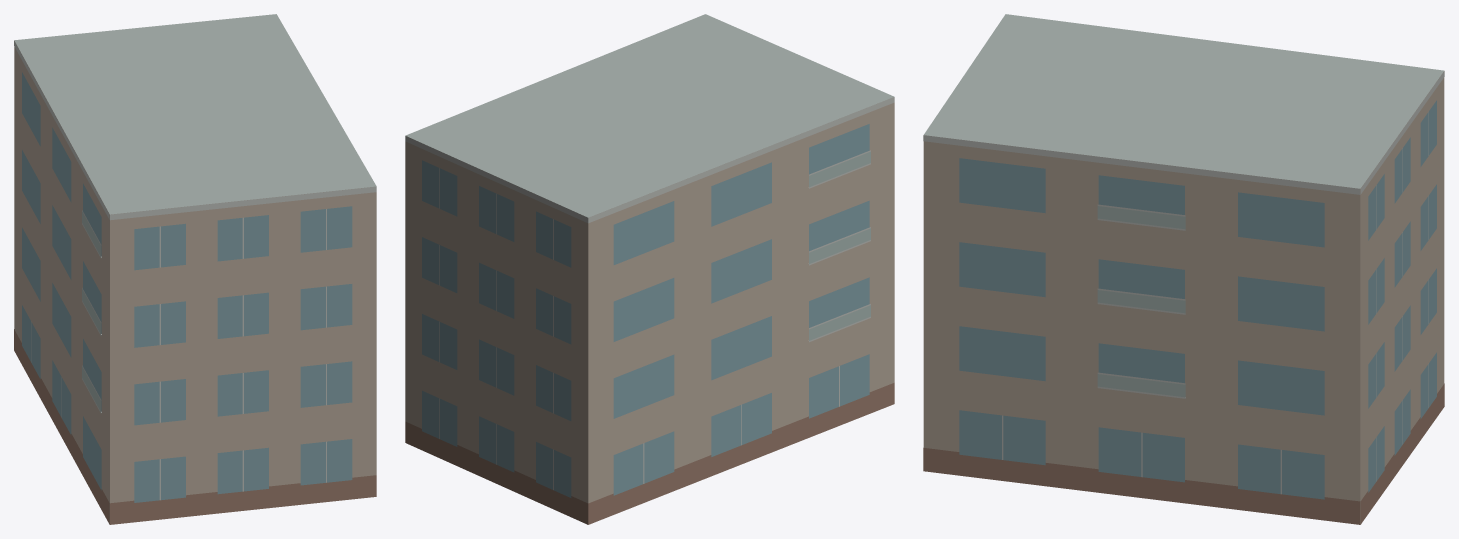
The model's file is survey-upis-32876121.glb.
The picture shows the model from 3 angles, left to right: view 1: azimuth 30°, elevation 25°; view 2: azimuth 150°, elevation 25°; view 3: azimuth 270°, elevation 25°; orthographic projection. The views are drawn at different scales.
Visible parts, largest first — view 1: survey-upis-32876121.tmp; view 2: survey-upis-32876121.tmp; view 3: survey-upis-32876121.tmp.
Boxes of the visible parts, left/top/right/bottom form: survey-upis-32876121.tmp: left=14, top=14, right=376, bottom=524; survey-upis-32876121.tmp: left=405, top=14, right=894, bottom=524; survey-upis-32876121.tmp: left=923, top=14, right=1444, bottom=524.
Bounding box in the file's own units: 14.84 × 13.3 × 18.7.
